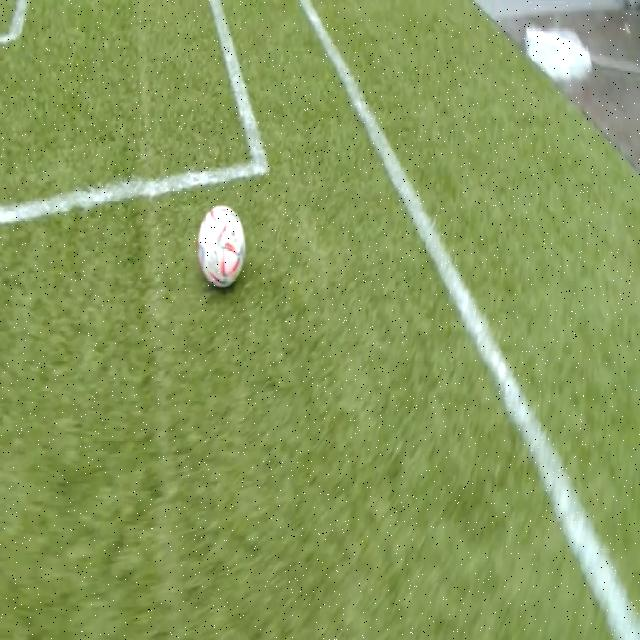ball: (198, 205, 245, 287)
